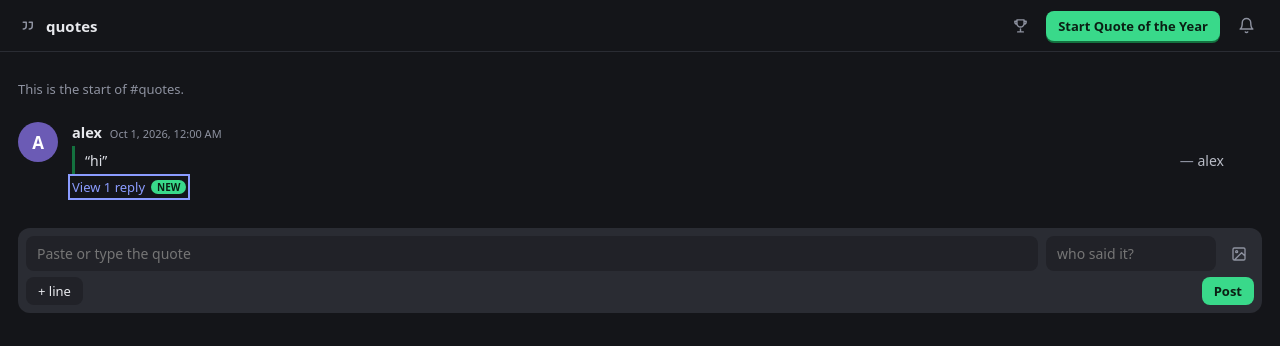
TextChannel: quotes channel › M20: closing replies with Escape or ✕ puts focus back on what opened them
This screenshot has width=1280, height=346.
Click the button with class "replies": (129, 187) [72,178,186,196]
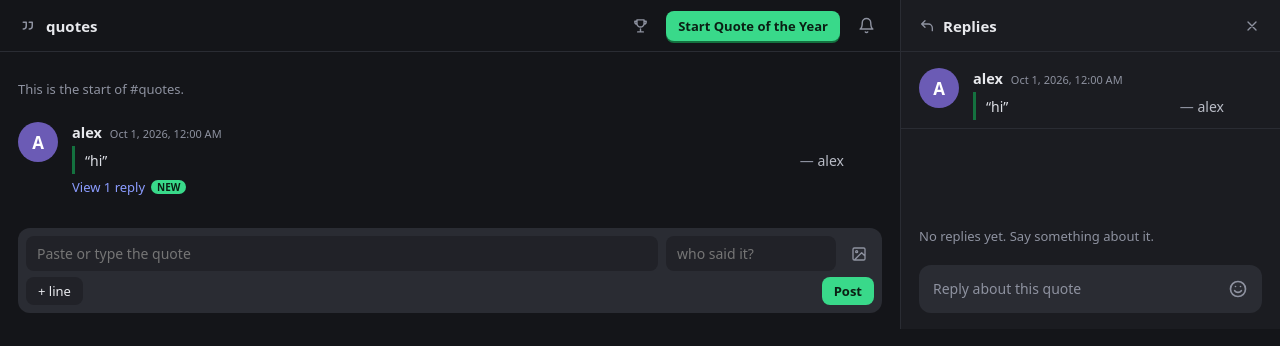
Now the element with class "replies-panel" is shown, box [900,0,1279,329]
Press Escape in the field named "Reply about this quote", box [919,265,1262,313]
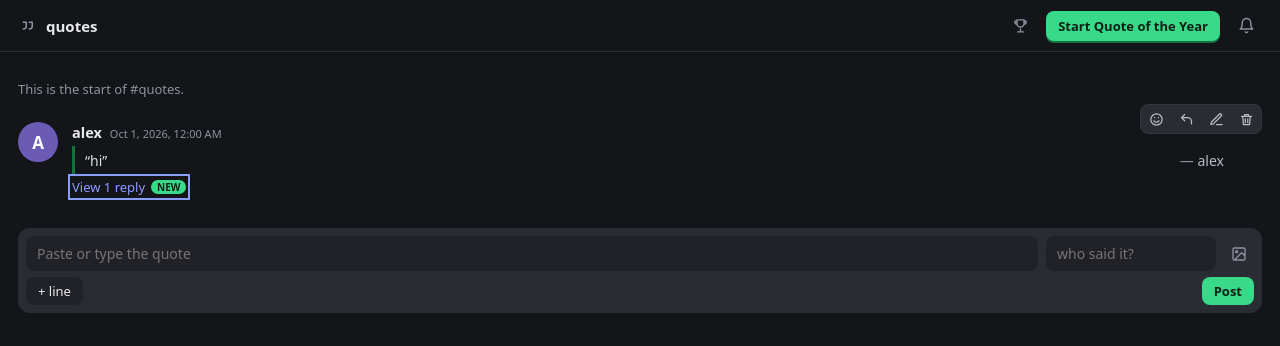
Now the element with class "replies-panel" is gone
Click the button with class "replies": (129, 187) [72,178,186,196]
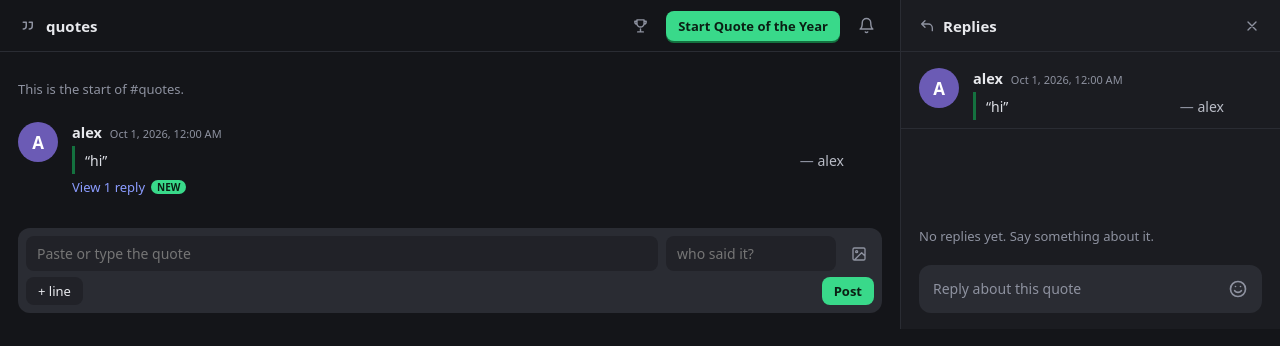
Now the element with class "replies-panel" is shown, box [900,0,1279,329]
Click the button named "Close replies": (1252, 26) [1236,10,1268,42]
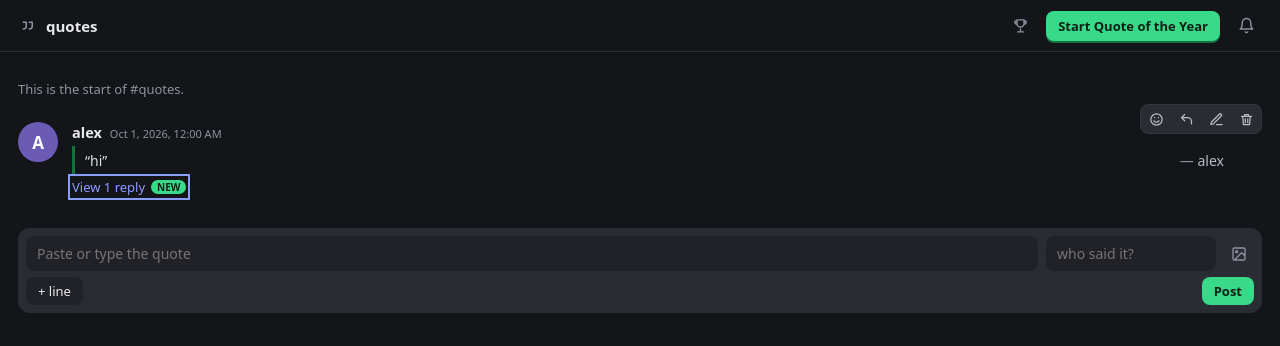
Now the element with class "replies-panel" is gone
